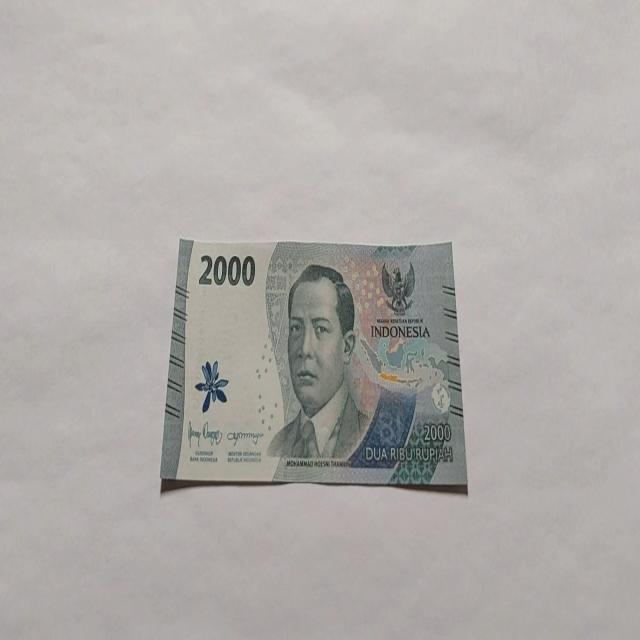dua ribu rupiah: (160, 236, 468, 494), (266, 262, 370, 468)
